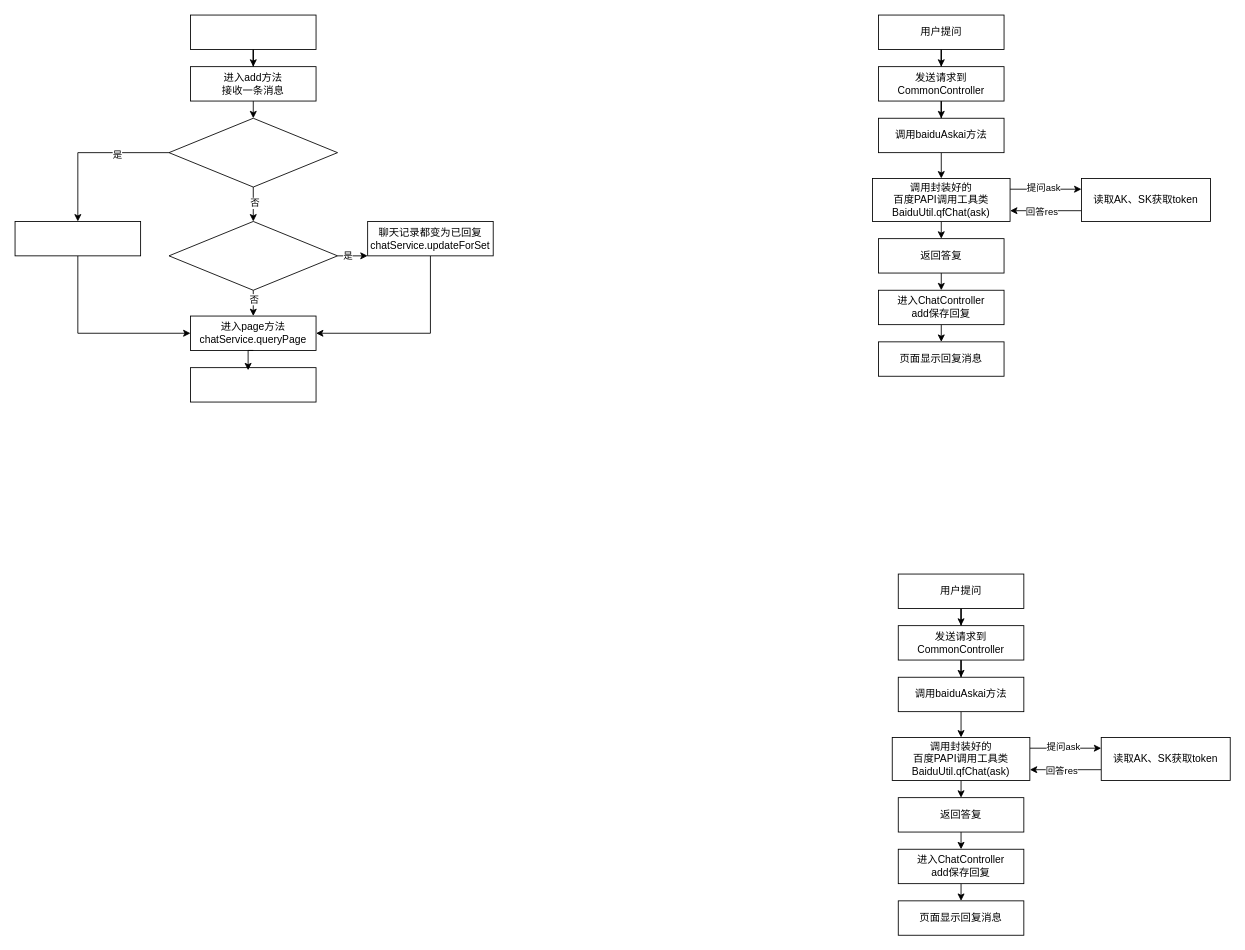
Some shapes in this 1245 by 950 pixel diagram are drawn without their labels. Each missing label, with the centre of its shape:
回复是否为空 StringUtils.isNotBlank (chat.getReply()): (253,255)
提问是否为空 StringUtils.isNotBlank (chat.getAsk()): (253,152)
更新消息状态未回复 chatService.updateForSet: (77,238)
用户进入ChatController: (253,31)
页面显示最新消息: (253,384)
